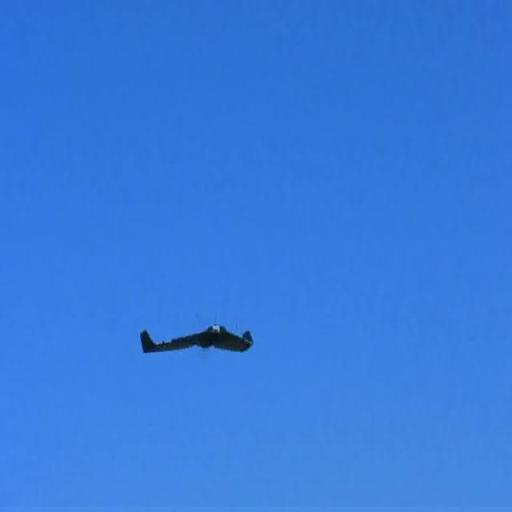uav: (138, 310, 257, 369)
